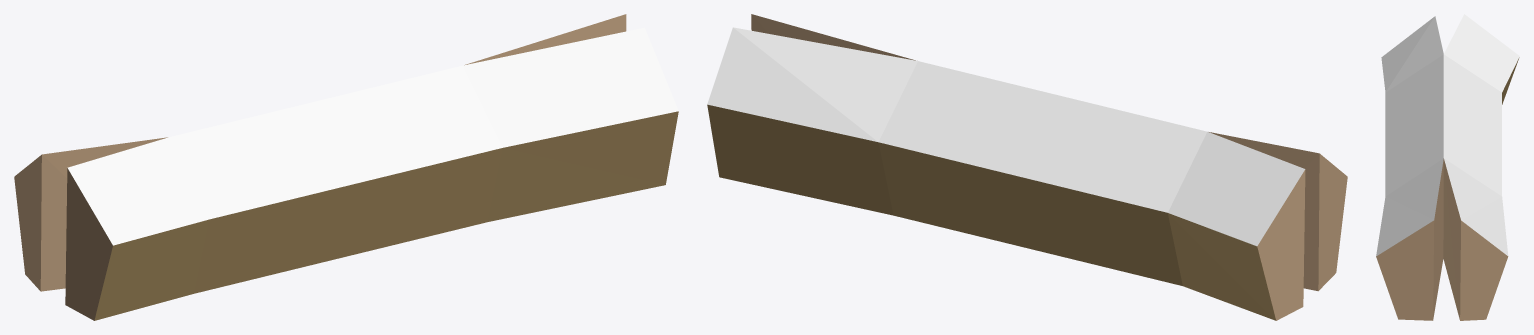
Rendered from Simple_Firewood_Snow_03.fbx.
3 views of the same model, side by side, from view 1: azimuth 30°, elevation 25°; view 2: azimuth 150°, elevation 25°; view 3: azimuth 270°, elevation 25° (orthographic). The views are drawn at different scales.
Visible parts, largest first — view 1: Simple_Firewood_Snow_03; view 2: Simple_Firewood_Snow_03; view 3: Simple_Firewood_Snow_03.
Boxes of the visible parts, <box> form: Simple_Firewood_Snow_03: <box>14,14,678,320</box>; Simple_Firewood_Snow_03: <box>707,14,1347,320</box>; Simple_Firewood_Snow_03: <box>1376,14,1519,320</box>.
Bounding box in the file's own units: 55.28 × 12.56 × 16.28.
